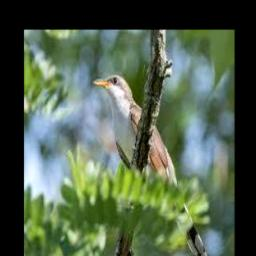Cuckoo: (92, 74, 207, 256)
